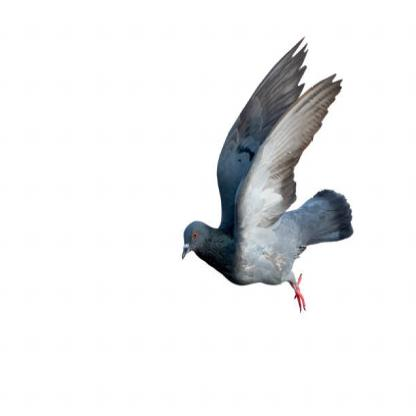Rock Pigeon: (183, 56, 345, 318)
